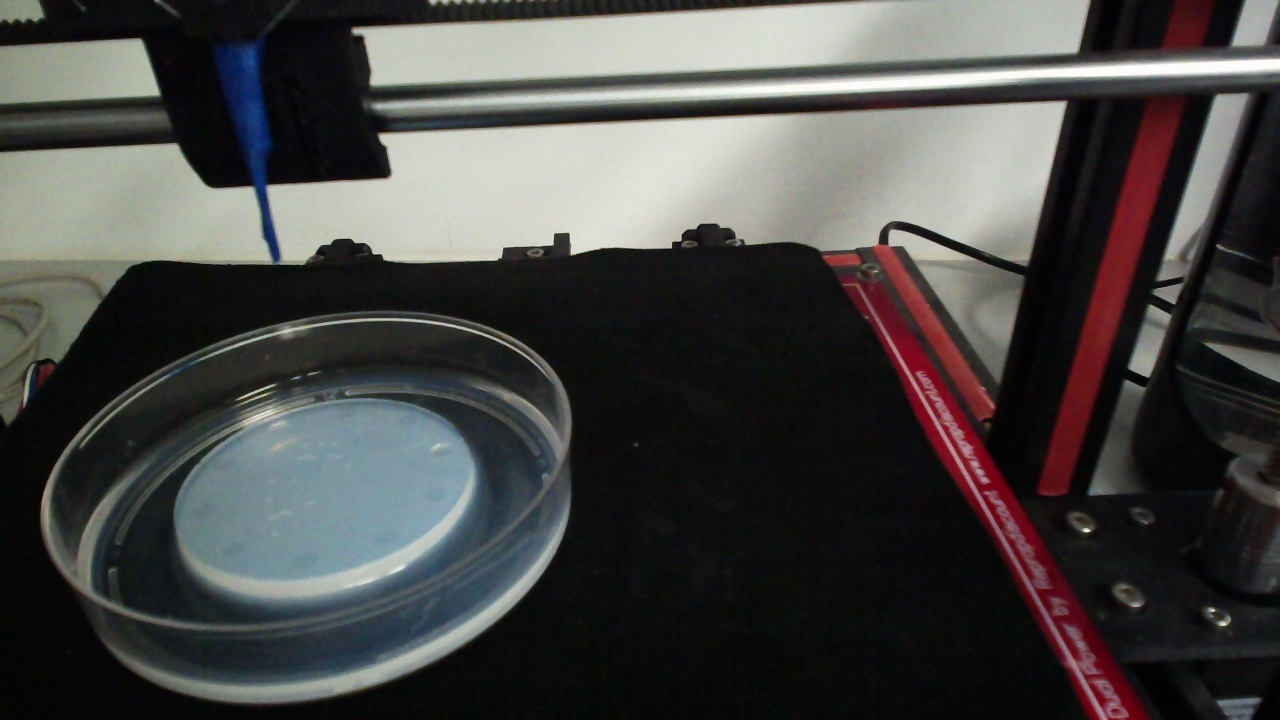groove: (371, 526, 398, 549), (289, 551, 317, 572), (425, 440, 454, 460), (422, 483, 448, 505), (218, 538, 247, 557), (189, 498, 214, 520), (332, 401, 358, 421), (210, 453, 237, 472), (266, 420, 293, 437), (397, 412, 419, 427)
needle: (218, 46, 280, 259)
